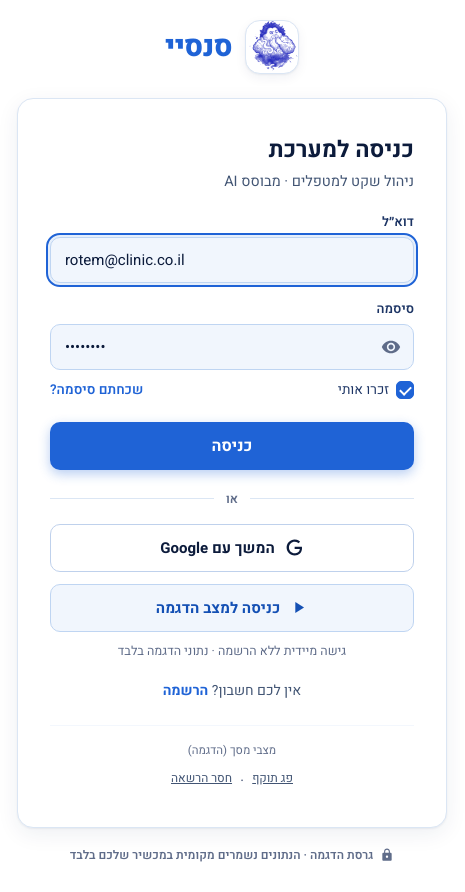
Scenario: login form — client-side validation & accessible errors › submits via the Enter key (keyboard-only usage)
The image size is (465, 892).
Check: the button with class "auth-login-btn" is shown, box [50,422,414,470]
Replace the text in the field named "דוא״ל" with "bad" at (232, 260), box [50,237,414,283]
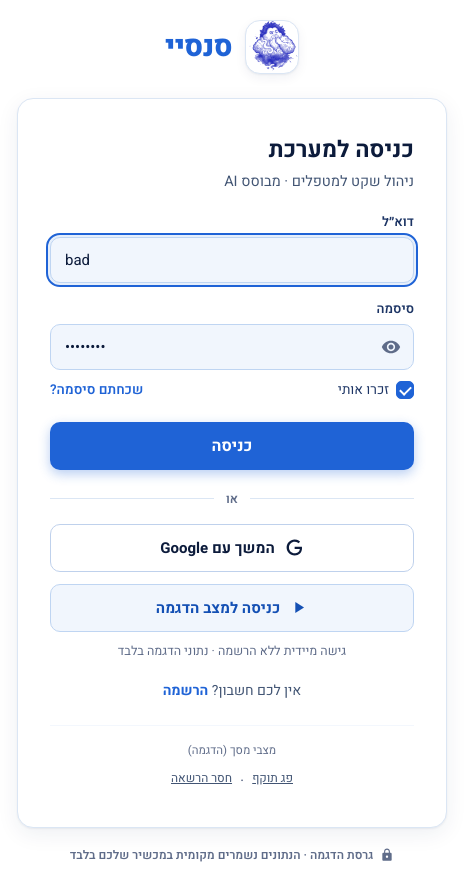
Press Enter in the password field named "סיסמה", box [50,324,414,370]
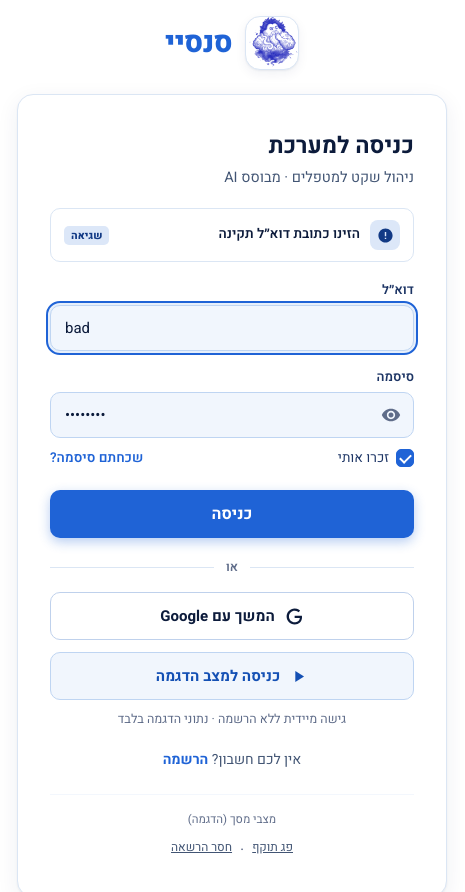
Check: the message "הזינו כתובת דוא״ל תקינה שגיאה" is shown, box [50,208,414,262]
